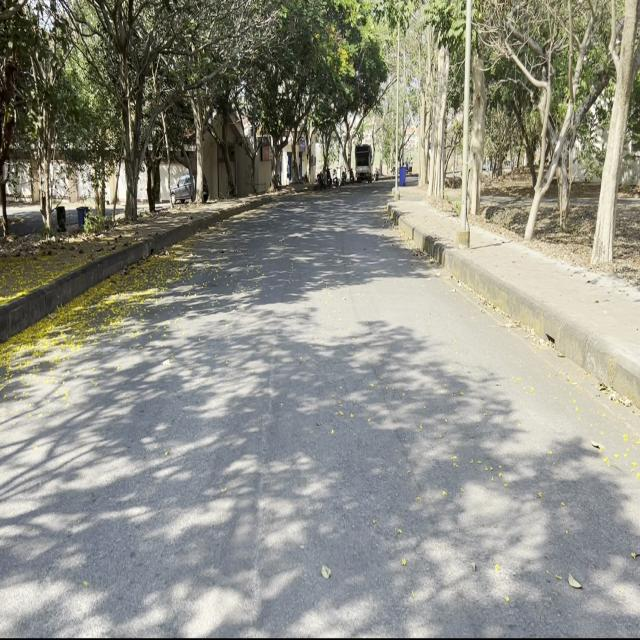Object: (352, 141, 373, 184)
Road: (4, 191, 631, 631)
